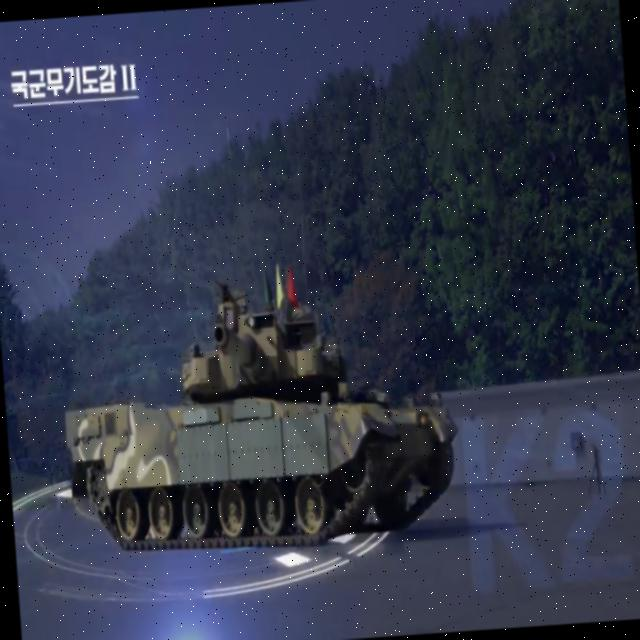korea tank: (54, 261, 467, 564)
